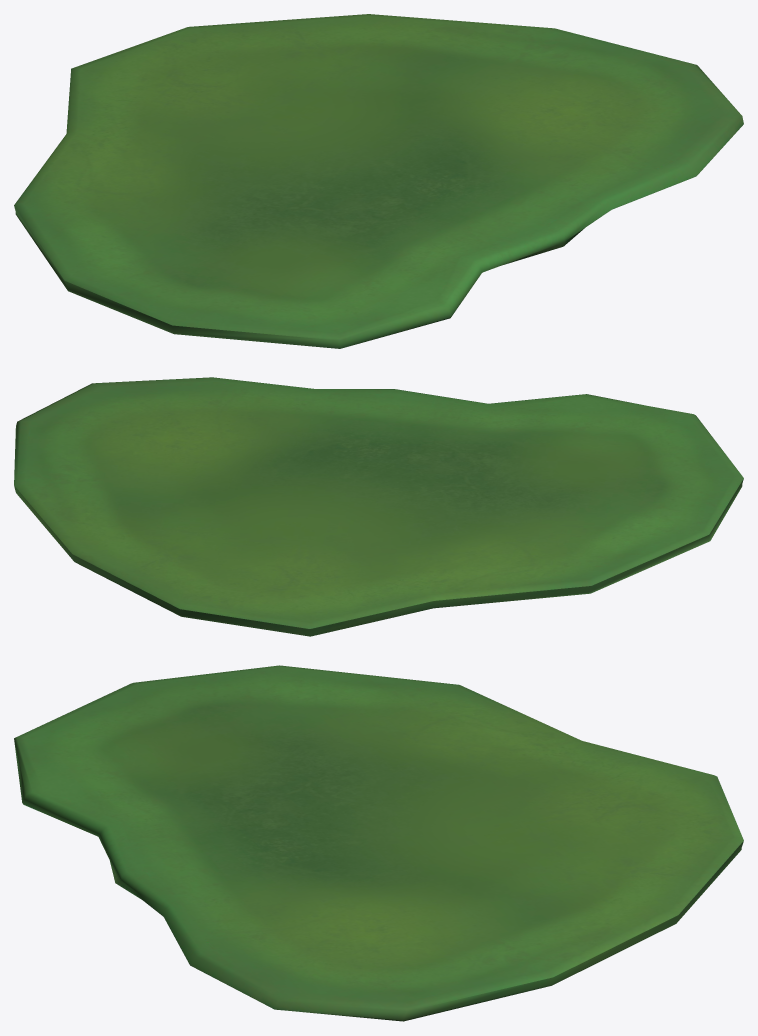
File: floor.fbx
The picture shows the model from 3 angles, top to bottom: view 1: azimuth 30°, elevation 25°; view 2: azimuth 150°, elevation 25°; view 3: azimuth 270°, elevation 25°; orthographic projection. The views are drawn at different scales.
Visible parts, largest first — view 1: floor; view 2: floor; view 3: floor.
Part boxes in pixels (x1=…): floor: x1=14, y1=14, x2=743, y2=348; floor: x1=14, y1=377, x2=743, y2=636; floor: x1=14, y1=665, x2=743, y2=1021.
Bounding box in the file's own units: 483 × 7.83 × 429.
